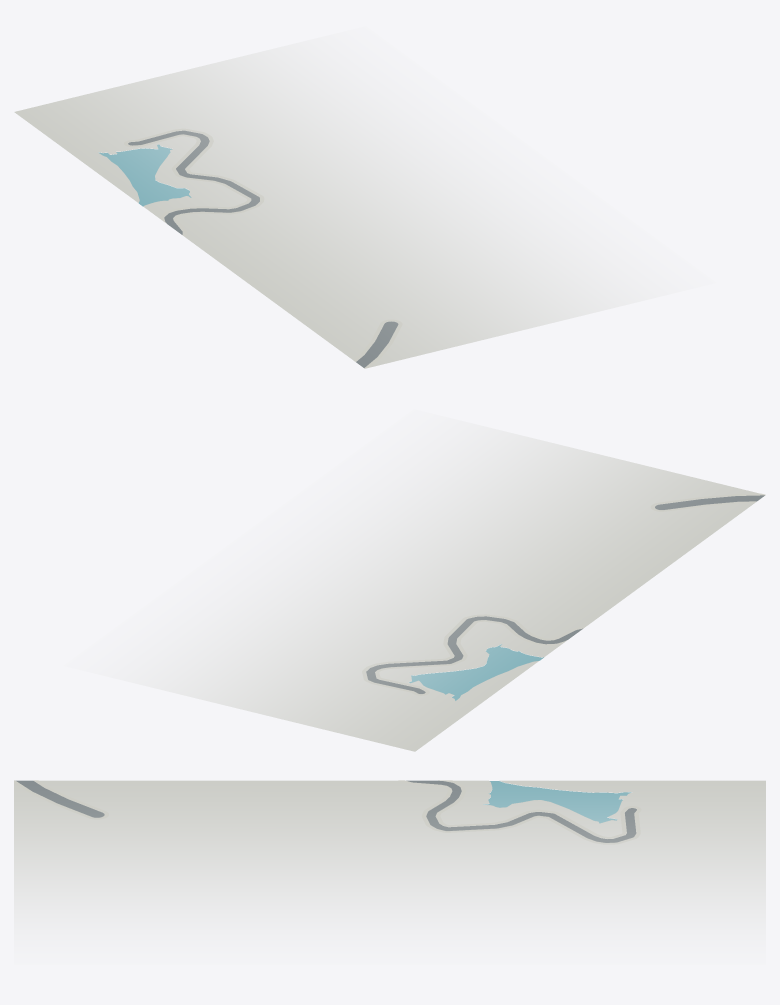
The picture shows the model from 3 angles, top to bottom: view 1: azimuth 30°, elevation 25°; view 2: azimuth 150°, elevation 25°; view 3: azimuth 270°, elevation 25°; orthographic projection. The views are drawn at different scales.
Visible parts, largest first — view 1: city; view 2: city; view 3: city.
Part boxes in pixels (x1=…): city: x1=14, y1=44, x2=643, y2=368; city: x1=136, y1=427, x2=765, y2=751; city: x1=14, y1=780, x2=765, y2=926.
Bounding box in the file's own units: 330 × 0.4 × 500.
